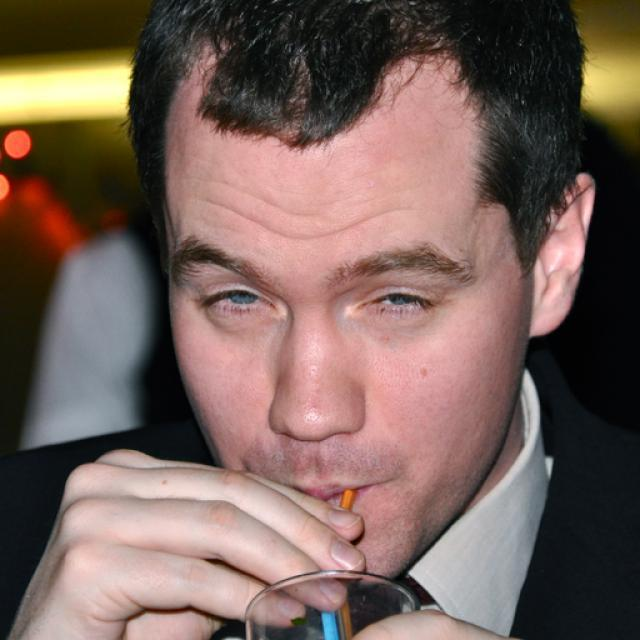surprise: (170, 48, 528, 582)
